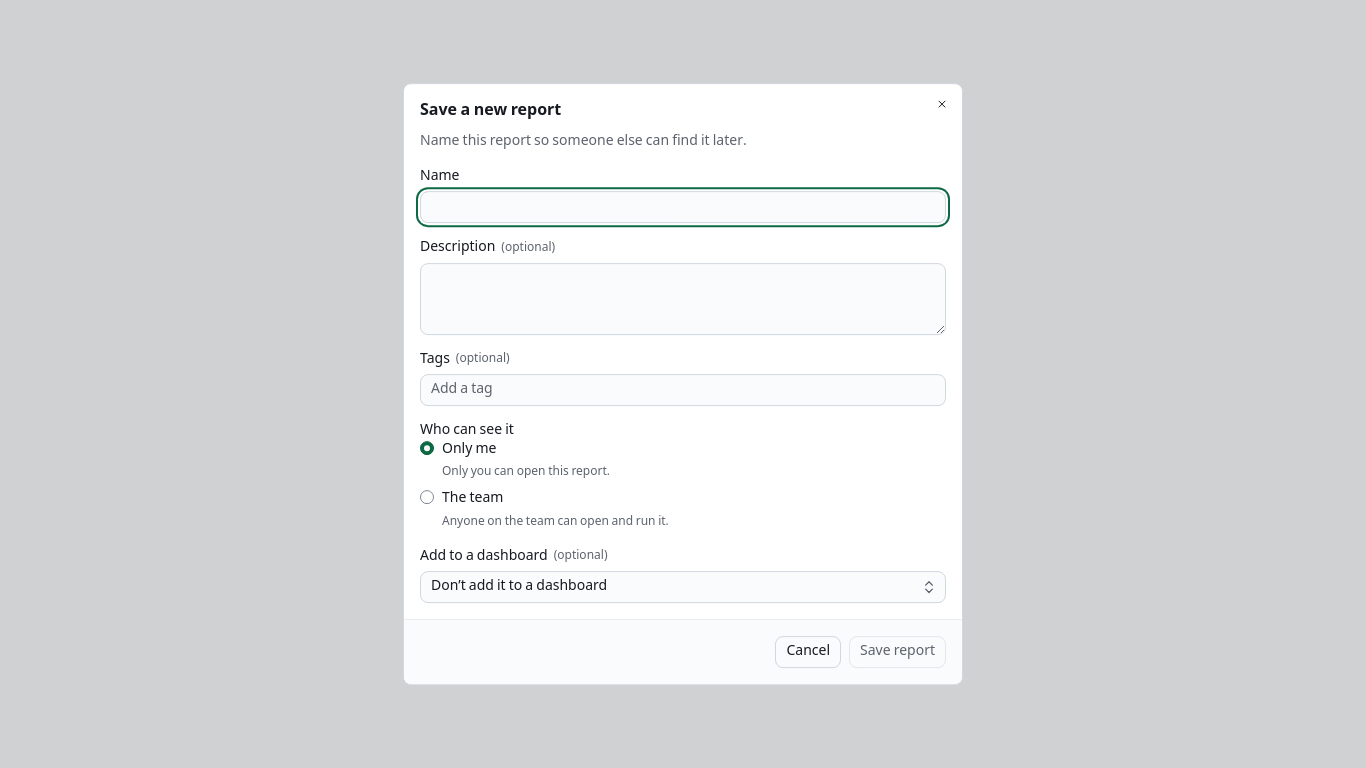
Scenario: a failed pin does not un-save a saved report › states the partial outcome and leaves the report saved
Step 1. Type "Saved but not pinned" into the field labelled "Name" → (683, 207), box [420,191,946,223]
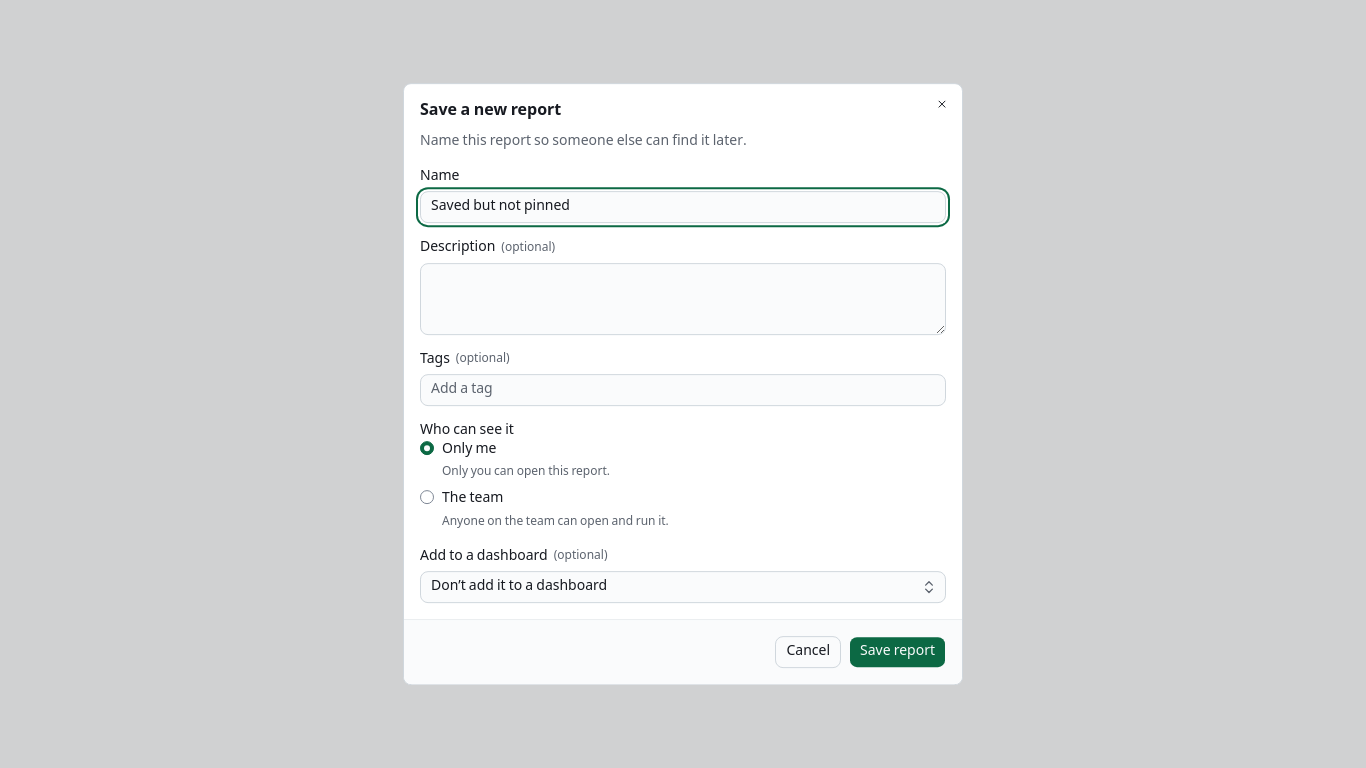
Step 2. Click the dropdown → (519, 587), box [420,571,946,603]
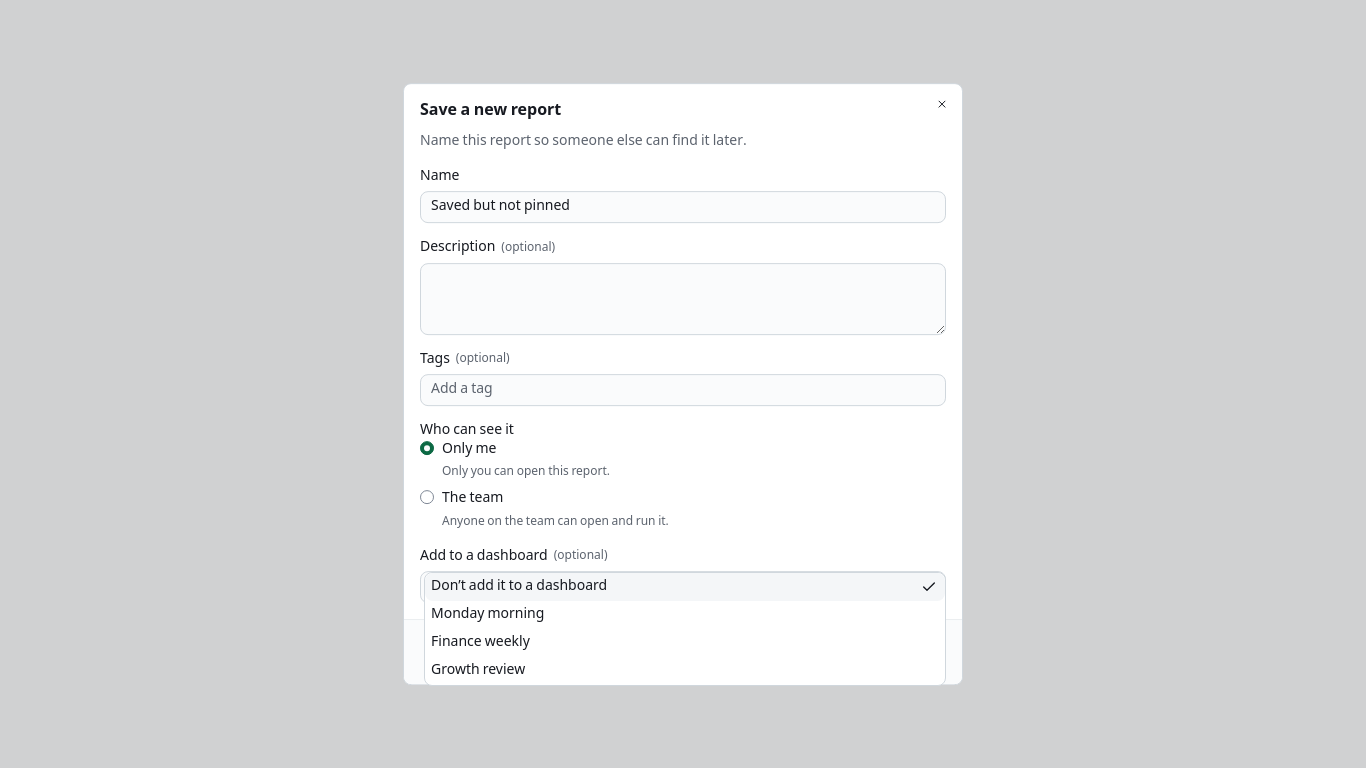
Step 3. Click the option "Monday morning" → (488, 615), box [431,603,544,627]
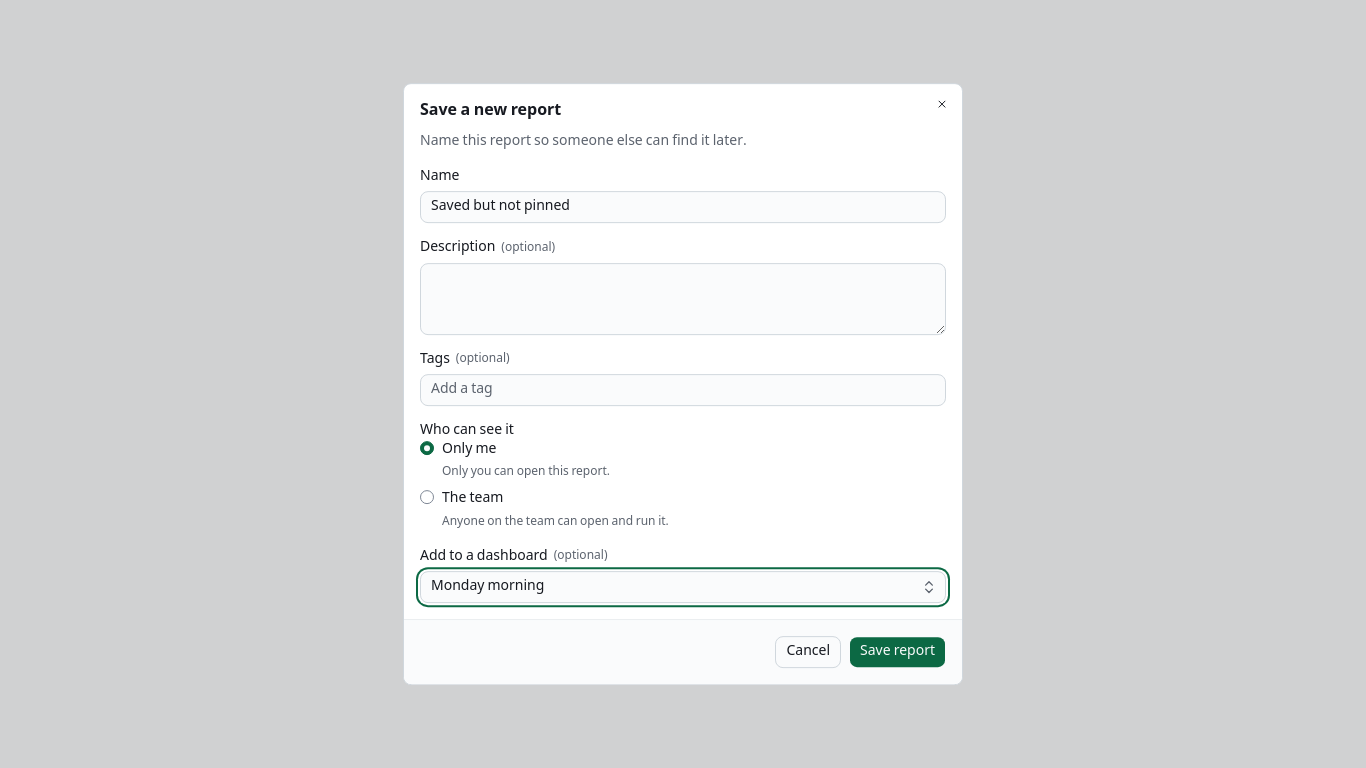
Step 4. Click the button "Save report" → (898, 652), box [849,636,946,668]
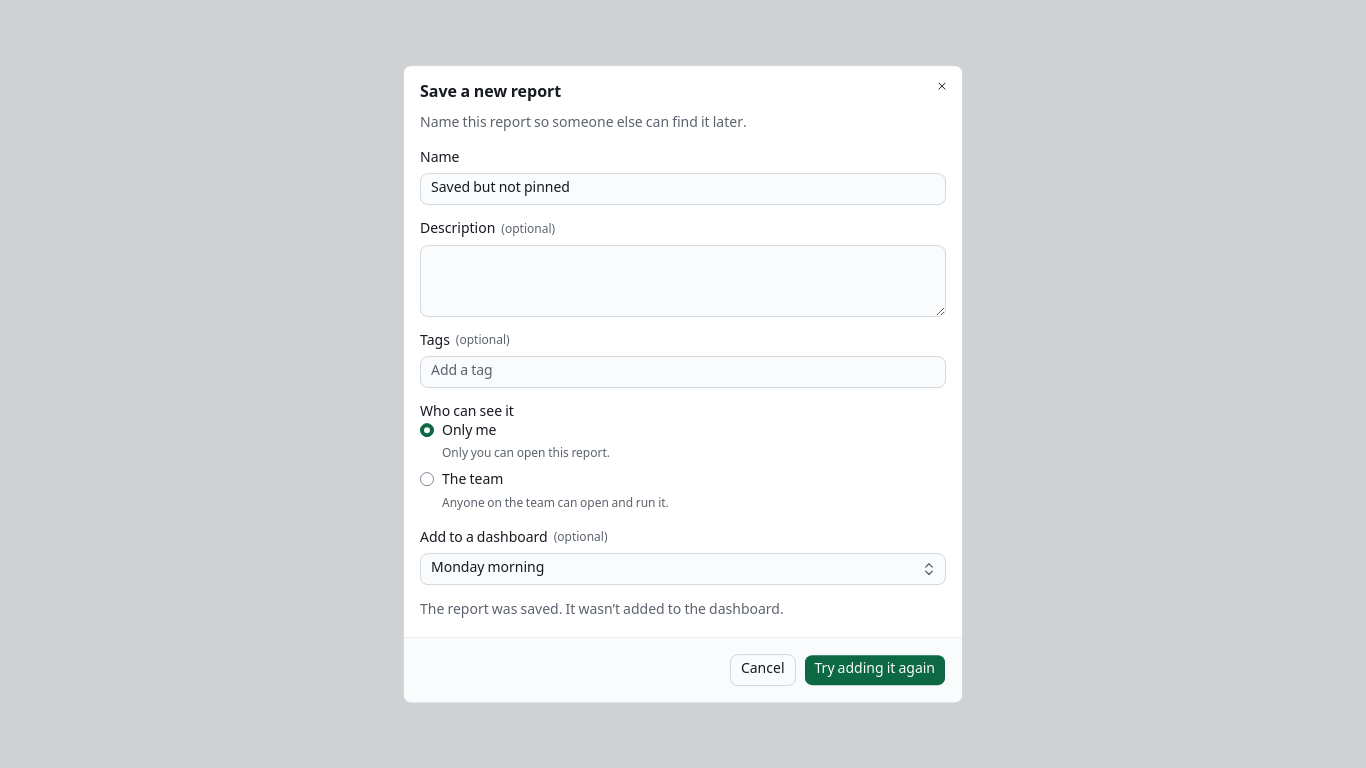
Expected: the button "Try adding it again" is enabled, [804,654,946,686]
Expected: the text "The report was saved. It wasn’t added to the dashboard." is shown, [420,599,784,623]
